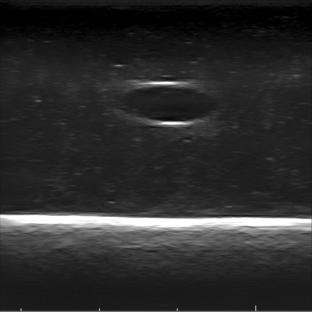vessel: (117, 81, 220, 128)
